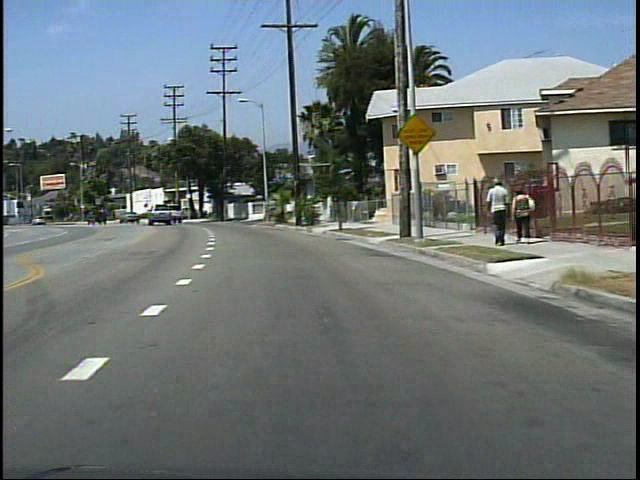person: (483, 176, 508, 247), (507, 185, 534, 244)
